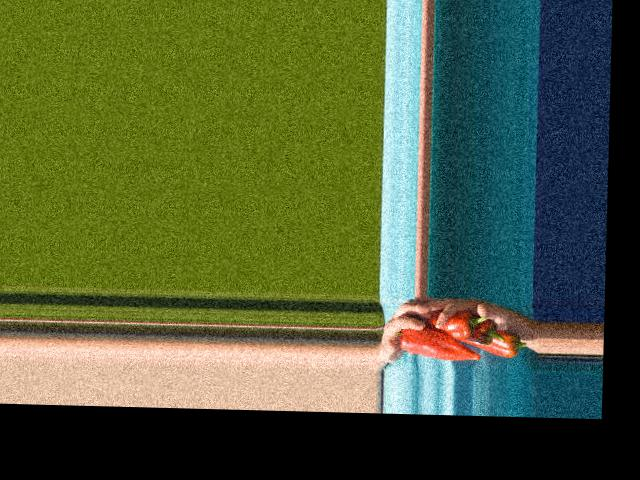bell_pepper: (473, 328, 527, 358)
